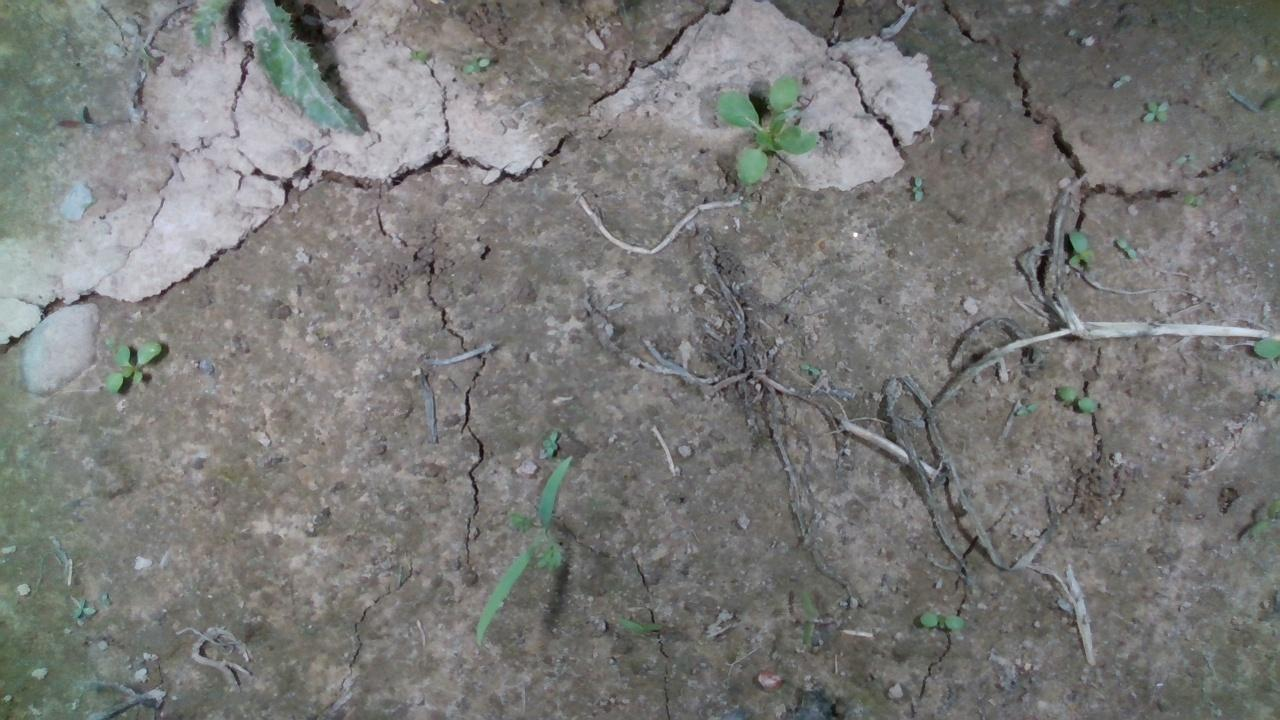weed: (102, 338, 165, 392), (1056, 377, 1104, 428), (914, 600, 969, 638), (1060, 221, 1097, 276), (1107, 227, 1139, 267), (1141, 94, 1168, 133), (906, 169, 934, 203), (540, 428, 559, 455)
